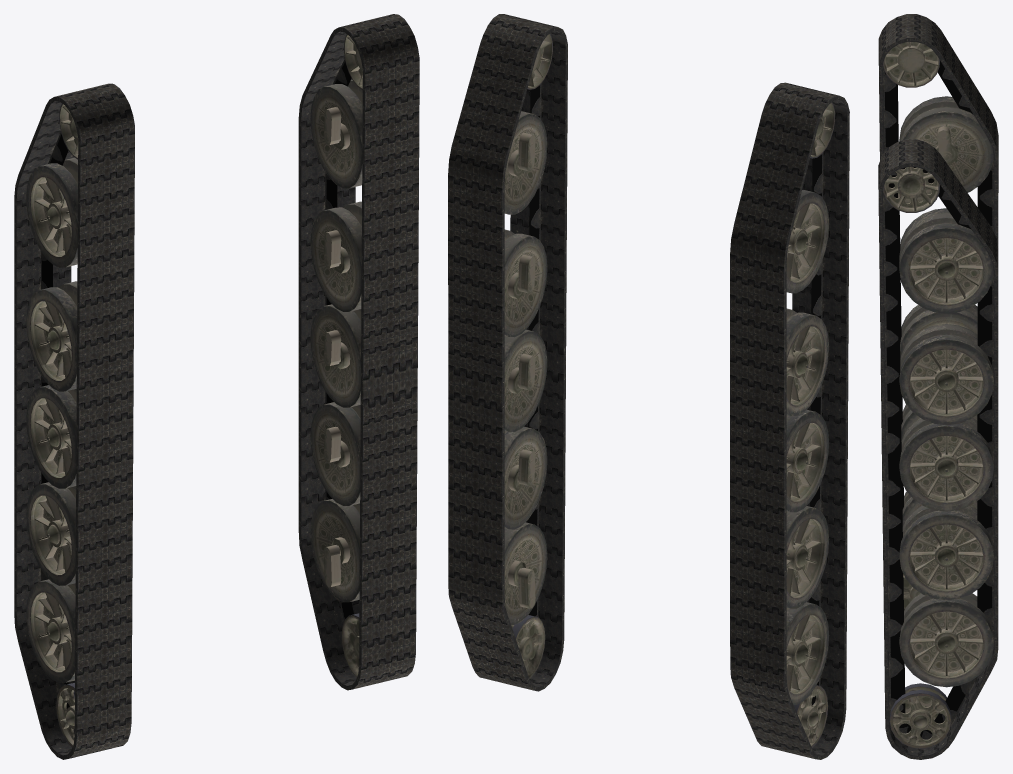
File: Chassis.glb
The picture shows the model from 3 angles, left to right: view 1: azimuth 30°, elevation 25°; view 2: azimuth 150°, elevation 25°; view 3: azimuth 270°, elevation 25°; orthographic projection. The views are drawn at different scales.
Parts seen in each view (by area): view 1: set_2_group_0, set_3_group_0, set_0_group_0, set_1_group_0; view 2: set_3_group_0, set_2_group_0, set_0_group_0, set_1_group_0; view 3: set_0_group_0, set_2_group_0, set_1_group_0, set_3_group_0.
Part boxes in pixels (x1,y1,x2,y2): set_2_group_0: (298, 14, 419, 690); set_3_group_0: (14, 83, 134, 759); set_0_group_0: (310, 34, 362, 677); set_1_group_0: (26, 103, 78, 747); set_3_group_0: (730, 82, 849, 759); set_2_group_0: (448, 14, 567, 691); set_0_group_0: (504, 34, 552, 678); set_1_group_0: (786, 102, 834, 747); set_0_group_0: (883, 167, 993, 748); set_2_group_0: (878, 139, 998, 759); set_1_group_0: (883, 42, 993, 610); set_3_group_0: (878, 14, 998, 509).
Bounding box in the file's own units: 3.11 × 5.8 × 1.06.
4 materials, 4 textured.
